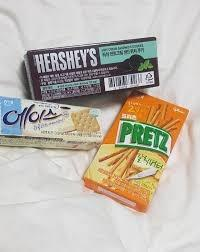snack: (82, 88, 190, 214), (23, 36, 161, 102), (0, 95, 103, 151)
